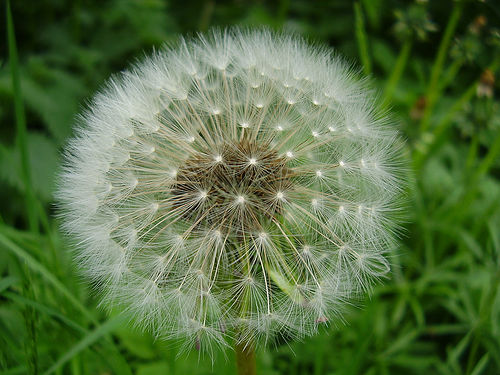dandelion: (47, 26, 424, 357)
